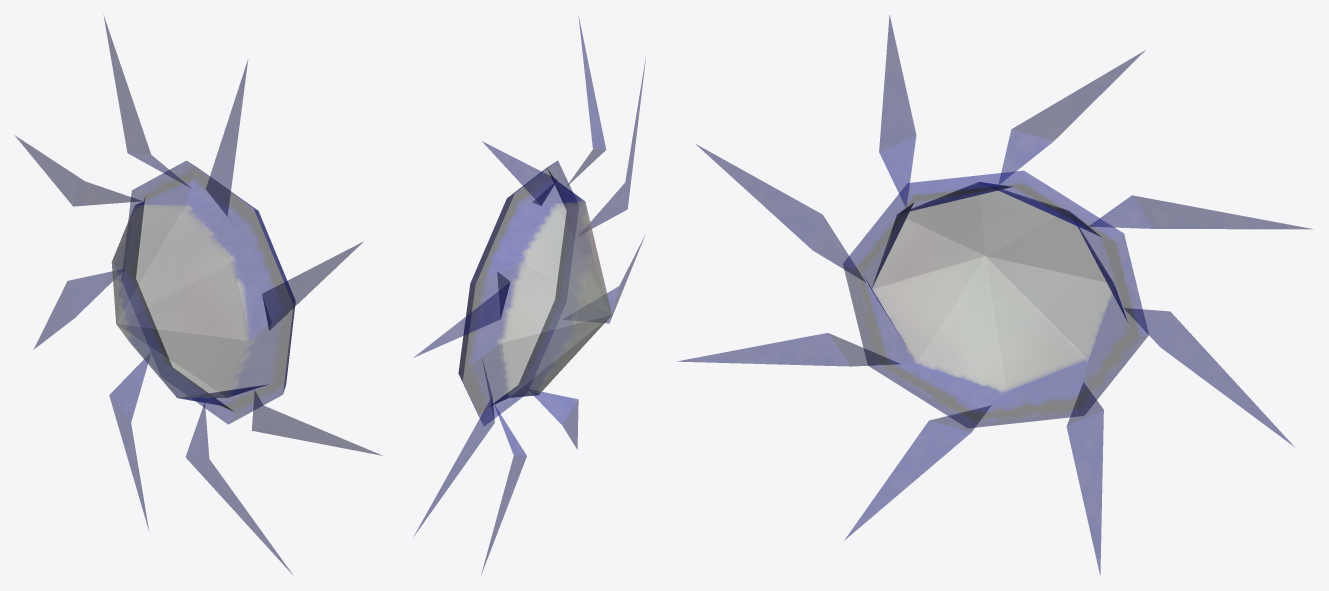
File: teleport1.fbx
The picture shows the model from 3 angles, left to right: view 1: azimuth 30°, elevation 25°; view 2: azimuth 150°, elevation 25°; view 3: azimuth 270°, elevation 25°; orthographic projection. The views are drawn at different scales.
Visible parts, largest first — view 1: Teleport1; view 2: Teleport1; view 3: Teleport1.
Part boxes in pixels (bbox=[...]): Teleport1: bbox=[15, 17, 381, 574]; Teleport1: bbox=[414, 17, 645, 573]; Teleport1: bbox=[677, 15, 1312, 574].
Size of the model in its own units: 445 by 2009 by 2076.
